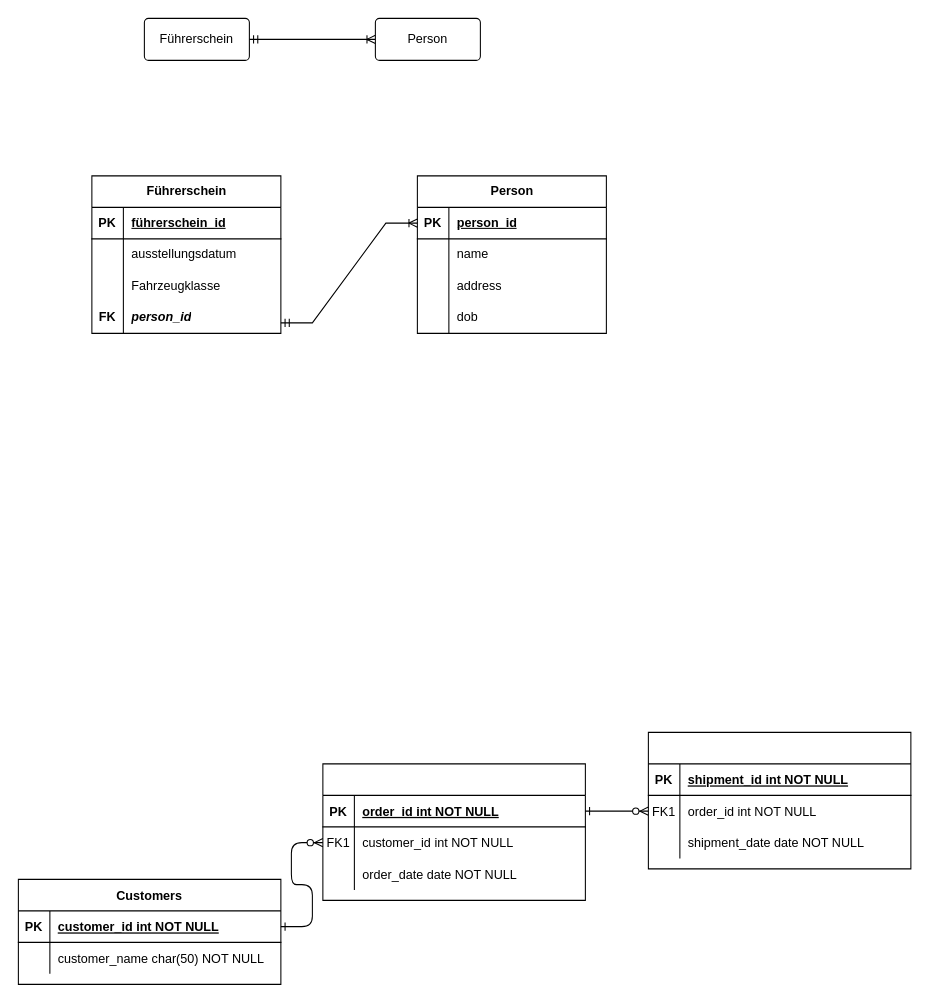
Some shapes in this 929 by 1003 pixel diagram are drawn without their labels. Here are the shapes that lost their labels. From the top down, the box of each, then its label:
(647, 731, 911, 869): Shipments
(322, 763, 585, 900): Orders
